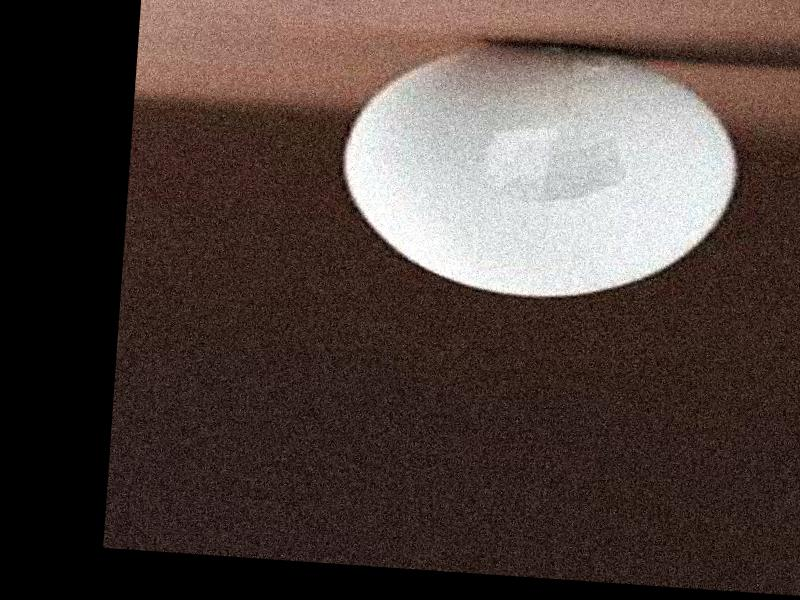Eggs: (336, 30, 738, 309)
